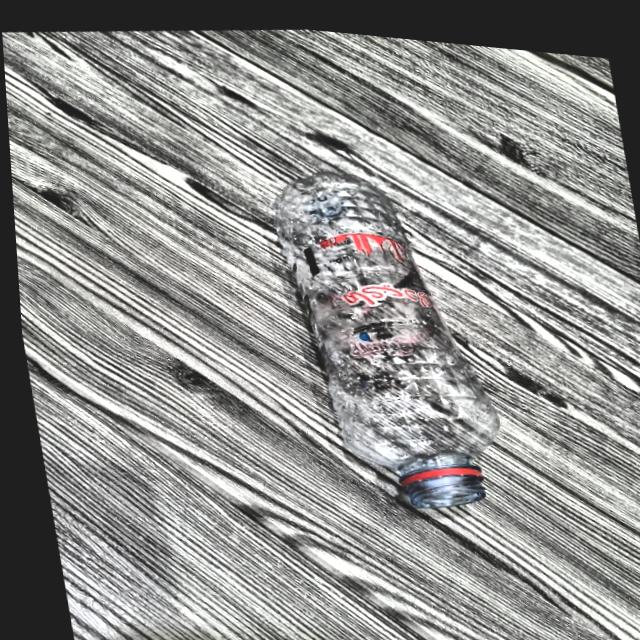Bottles: (202, 109, 556, 574)
